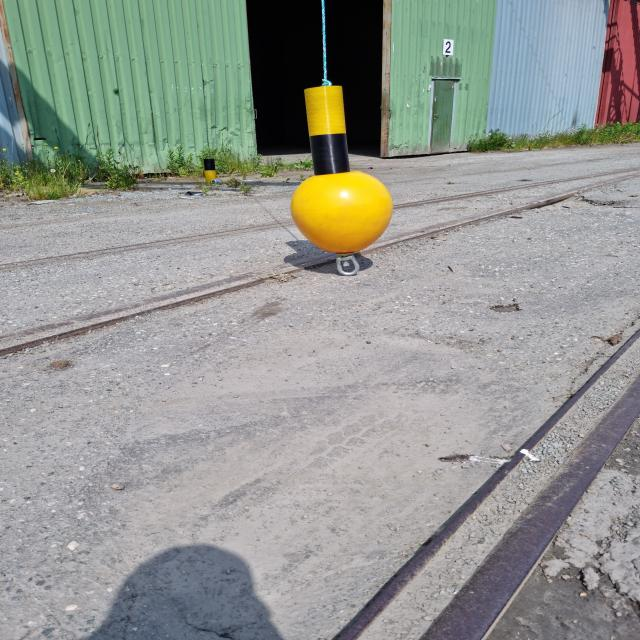west: (291, 84, 396, 255)
